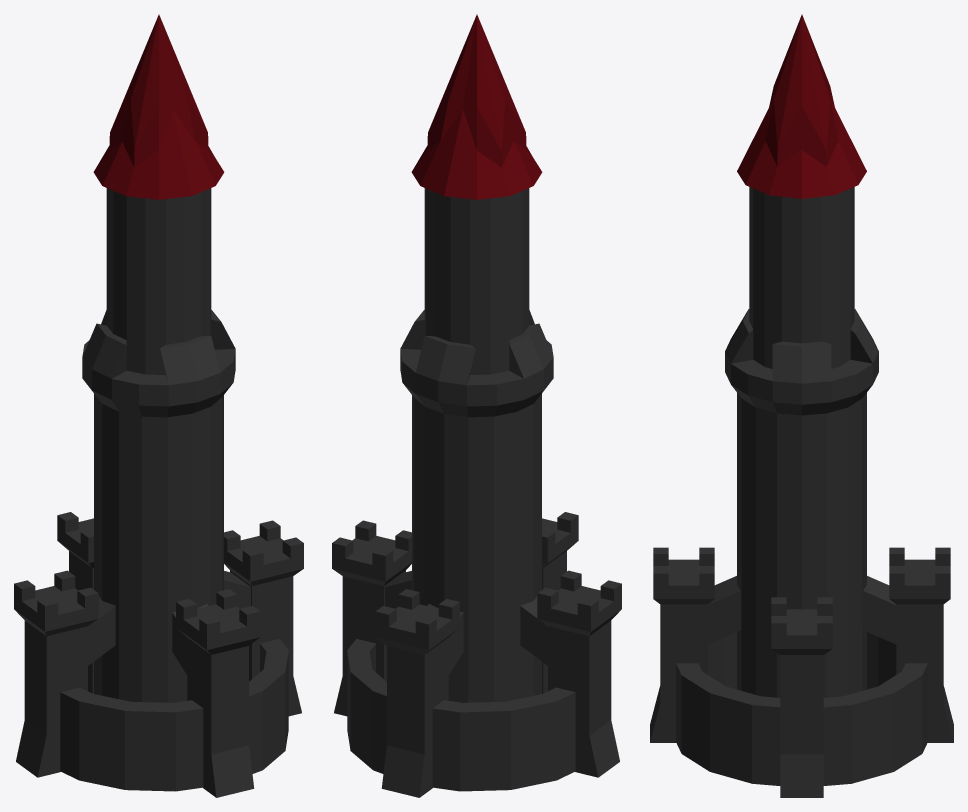
The model's file is Castlemini1.fbx.
3 views of the same model, side by side, from view 1: azimuth 30°, elevation 25°; view 2: azimuth 150°, elevation 25°; view 3: azimuth 270°, elevation 25° (orthographic).
Visible parts, largest first — view 1: Cylinder, Cube.003, Cylinder.001, Cube, Cone; view 2: Cylinder, Cube.003, Cylinder.001, Cube, Cone; view 3: Cylinder, Cylinder.001, Cube, Cone, Cube.003.
Part boxes in pixels (x1,y1,x2,y2): Cylinder: [82, 188, 235, 702]; Cube.003: [14, 520, 303, 777]; Cylinder.001: [60, 639, 288, 791]; Cube: [57, 512, 260, 797]; Cone: [93, 14, 224, 199]; Cylinder: [400, 188, 553, 702]; Cube.003: [332, 520, 621, 777]; Cylinder.001: [347, 639, 575, 791]; Cube: [375, 512, 578, 797]; Cone: [411, 14, 542, 199]; Cylinder: [725, 187, 878, 697]; Cylinder.001: [676, 632, 927, 785]; Cube: [650, 547, 953, 742]; Cone: [737, 14, 866, 198]; Cube.003: [771, 597, 832, 797].
Bounding box in the file's own units: 1400 × 3700 × 1400.
